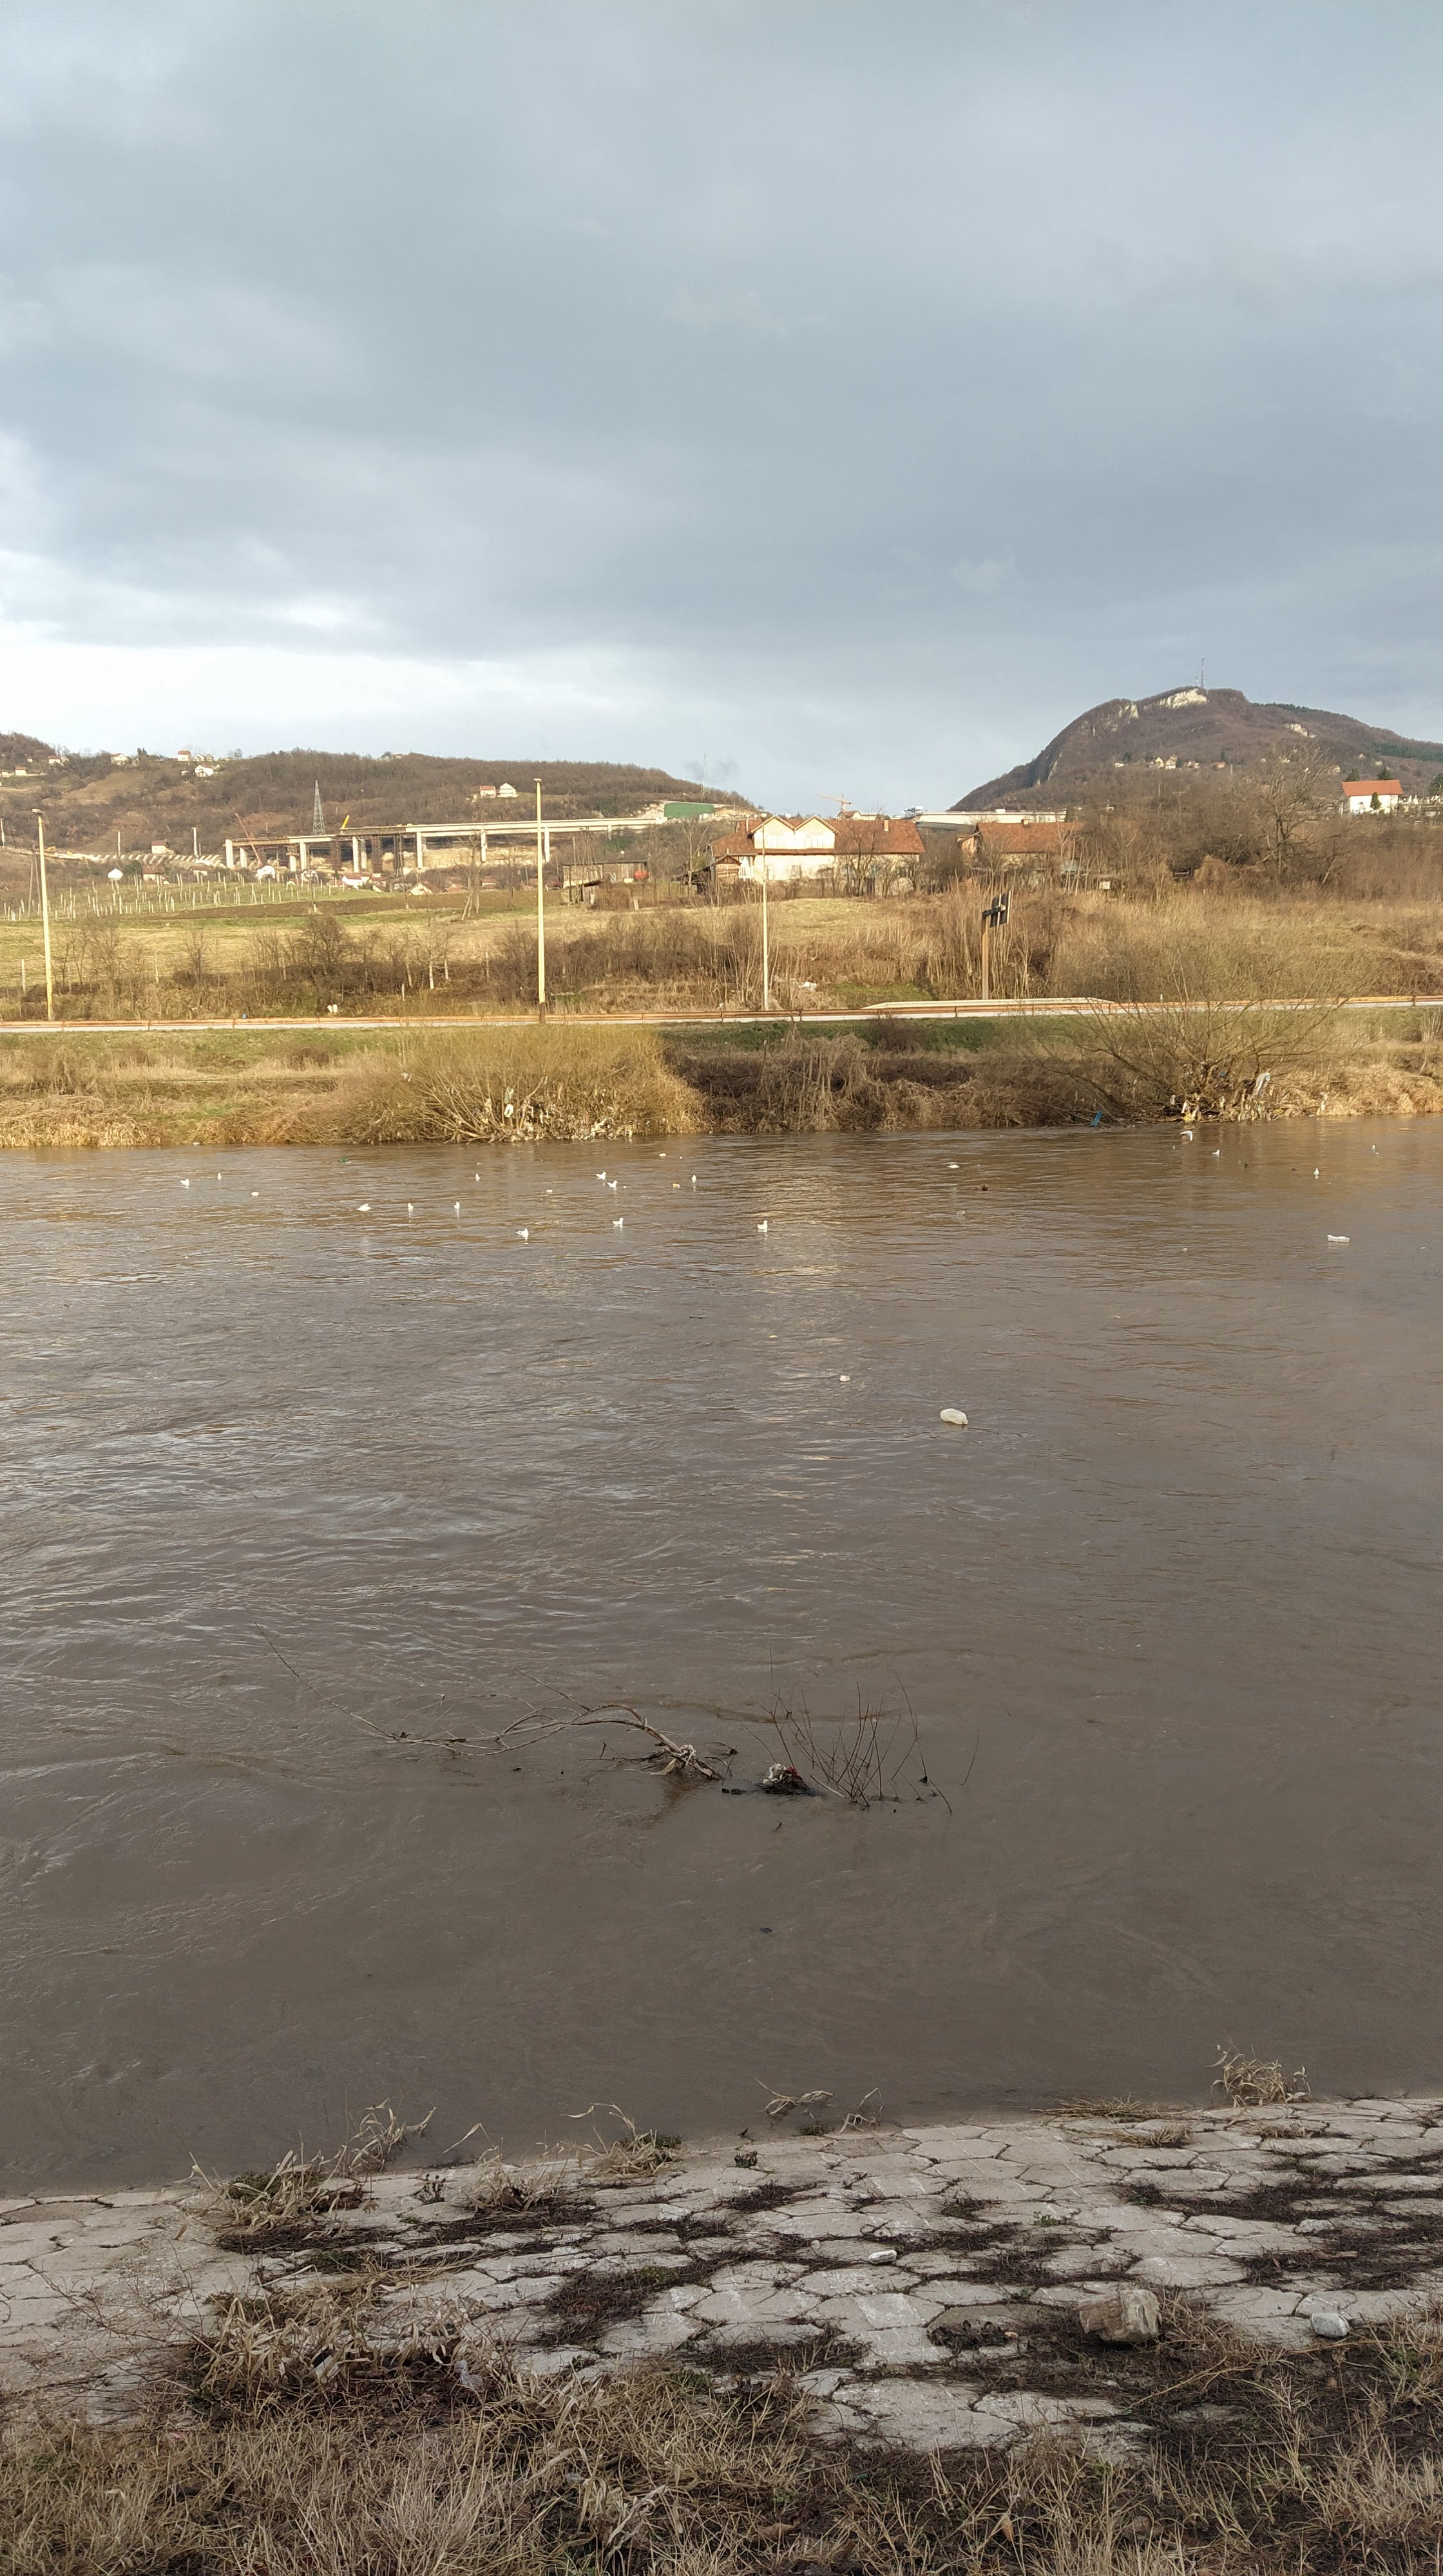Plastic Bottle: (940, 1408, 970, 1426), (1326, 1235, 1351, 1242), (947, 1164, 960, 1168), (958, 1210, 965, 1215), (981, 1185, 988, 1191), (338, 1157, 347, 1161), (673, 1184, 678, 1187), (659, 1154, 666, 1155), (545, 1189, 551, 1191), (1245, 1164, 1248, 1166)
